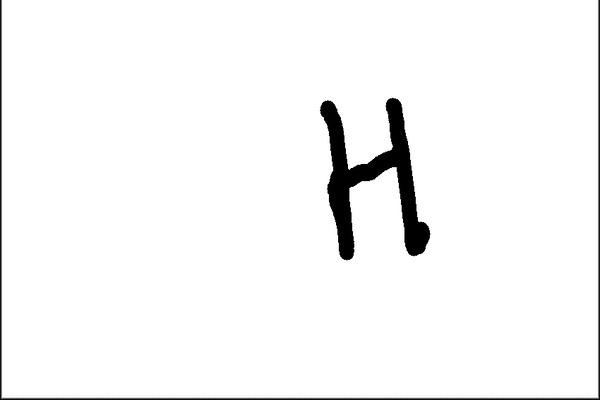H: (315, 93, 442, 265)
